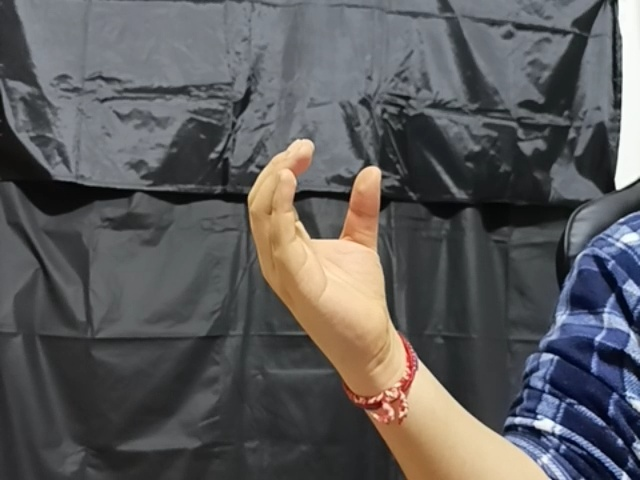C: (242, 135, 407, 342)
